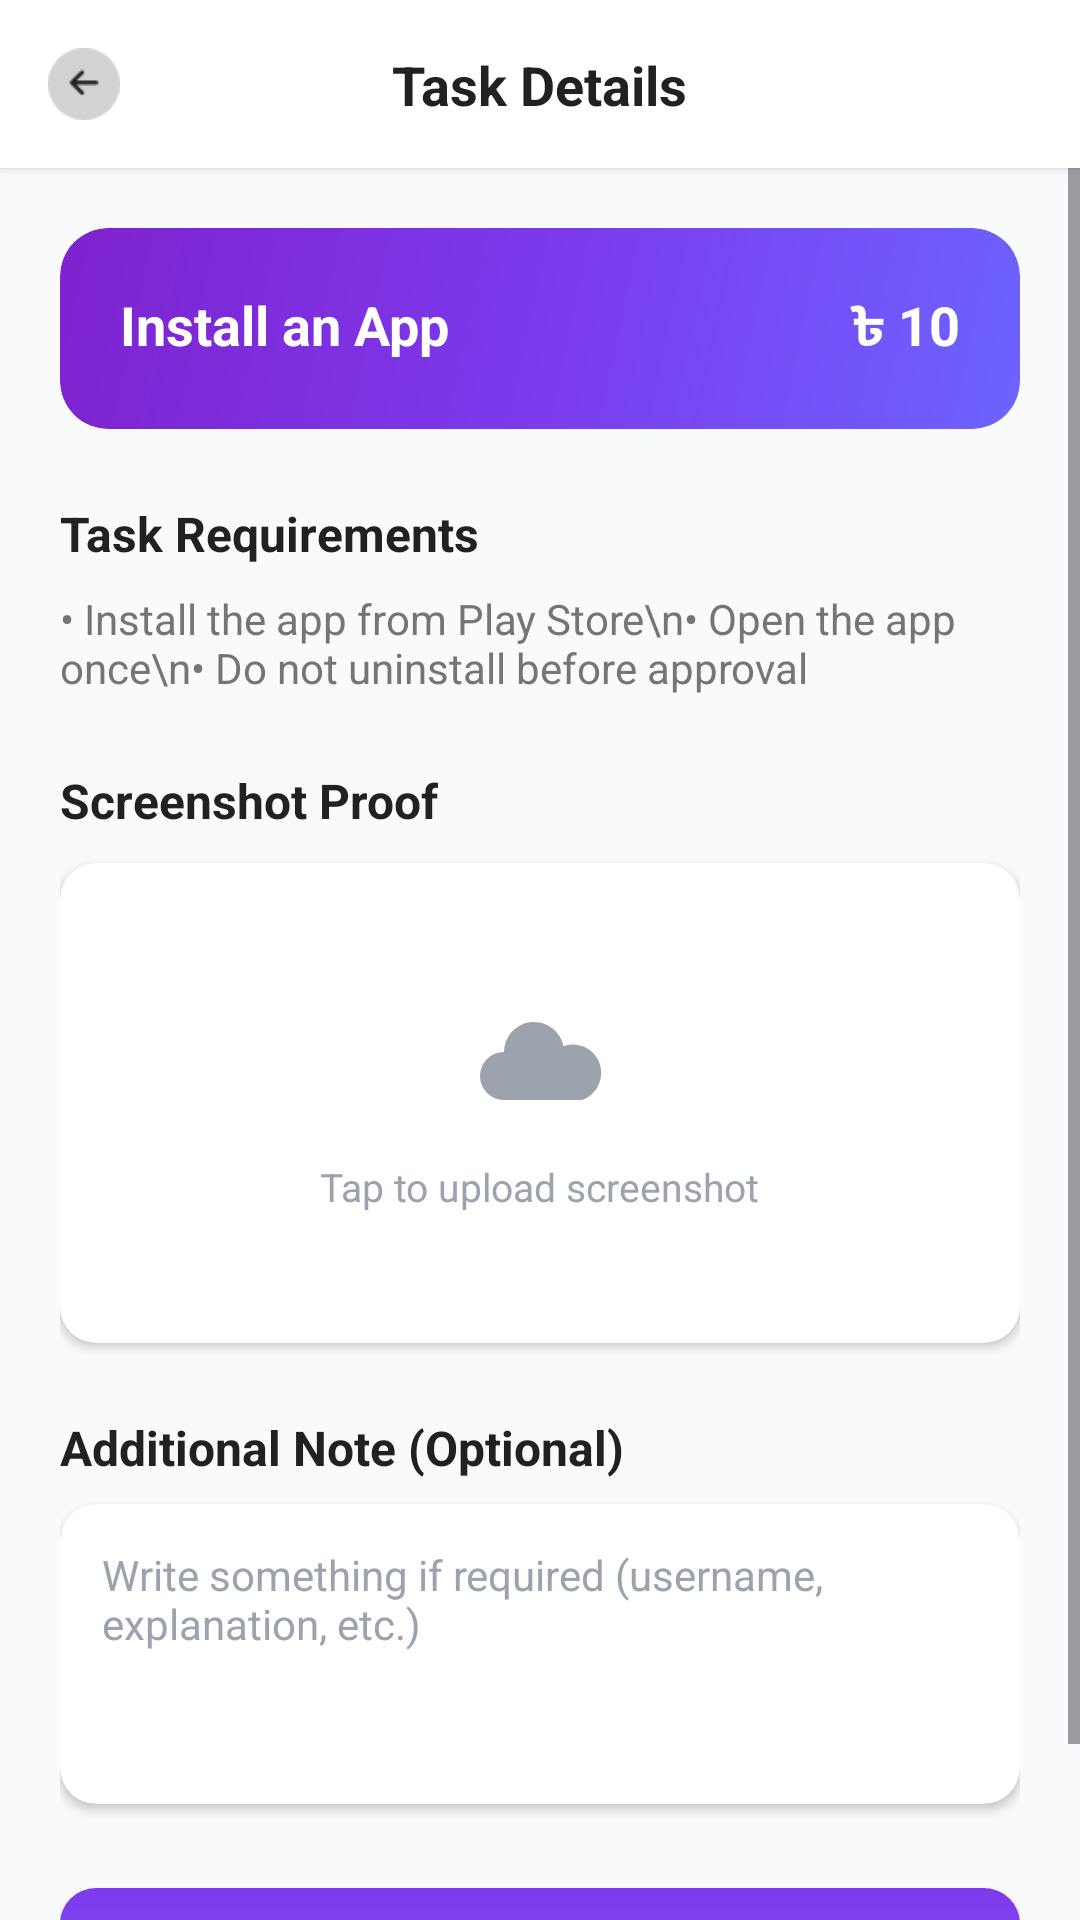

Named icons in this screenshot (1080px x 1920px) and their centers, (x=x, y=y):
Back button: (x=84, y=84)
